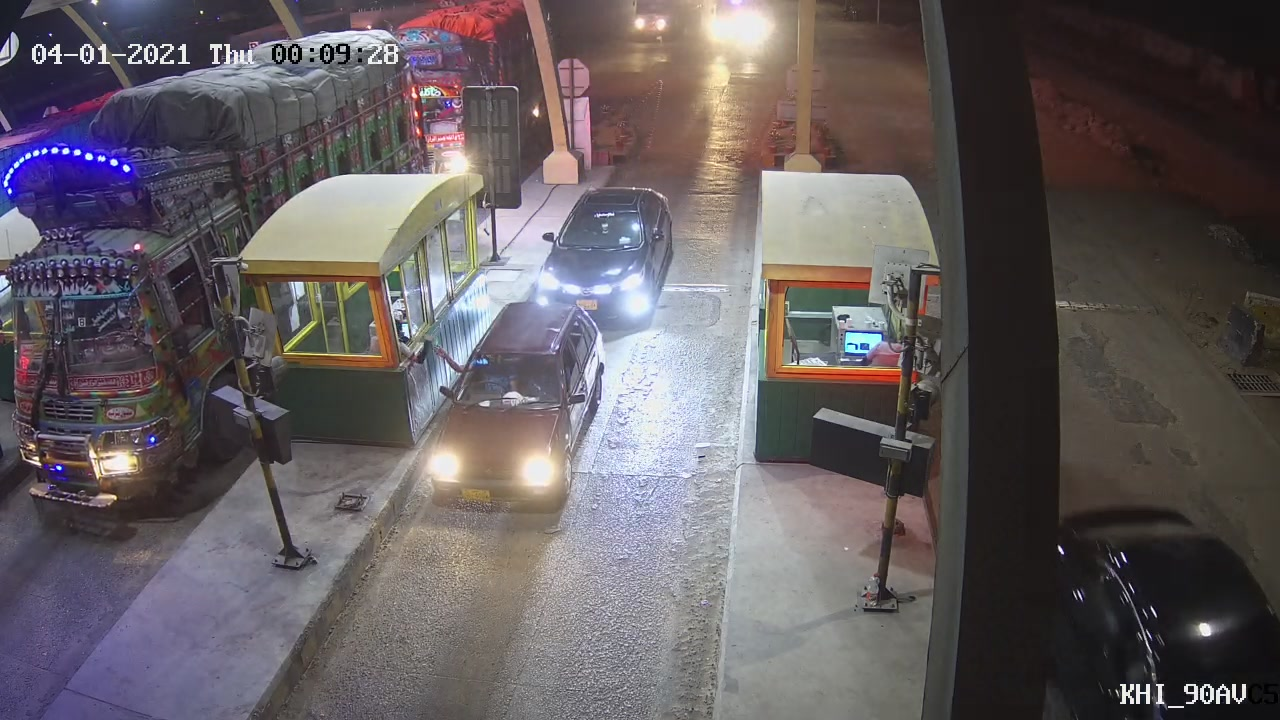F1: (419, 303, 607, 531)
